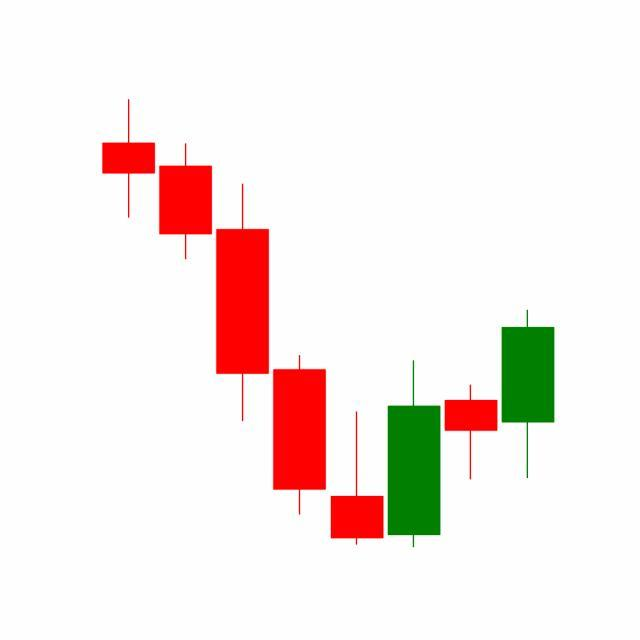Hikkake Pattern: (270, 307, 555, 549)
